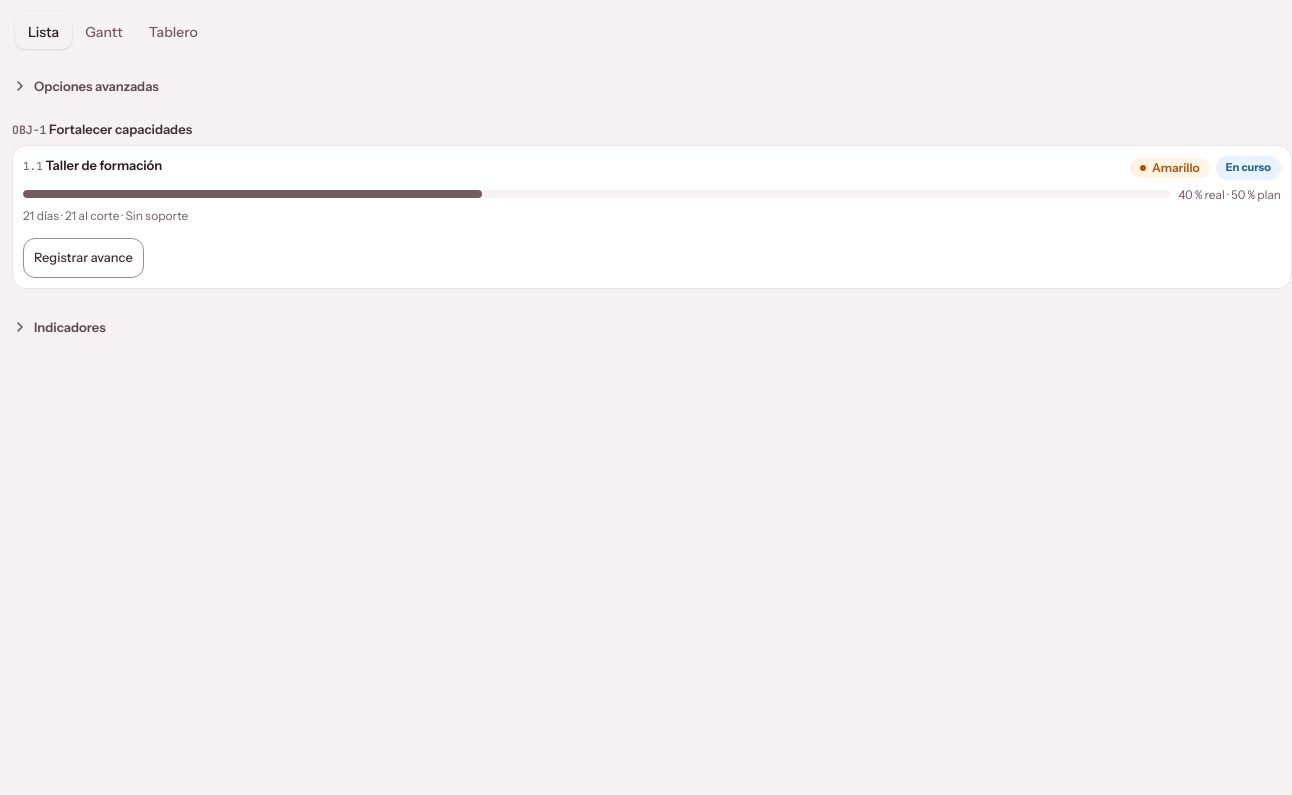
Test case: FichaActividades › Lista in execution › keeps the S-curve and the Base selector in a collapsed 'Opciones avanzadas' disclosure
Check: the list item with test id "ejecucion-actividad" is shown, box [12,145,1291,289]
Check: the dropdown labelled "Base" is not shown
Click the button "Opciones avanzadas": [85, 86] box [12,64,159,108]
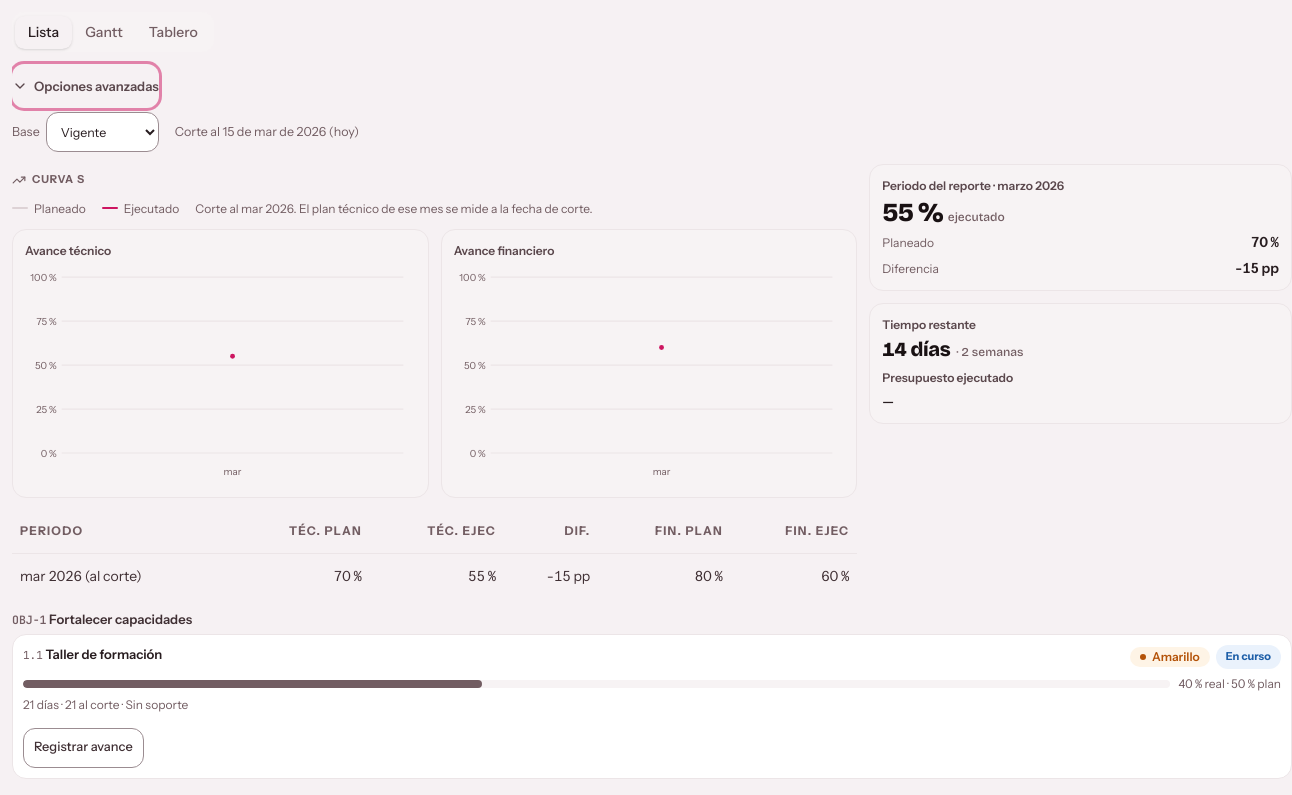
Check: the button "Opciones avanzadas" is expanded, box [12,64,159,108]
Check: the element with test id "curve-s-chart" is shown, box [12,172,857,598]
Check: the dropdown labelled "Base" shows "Vigente", box [46,112,159,152]
